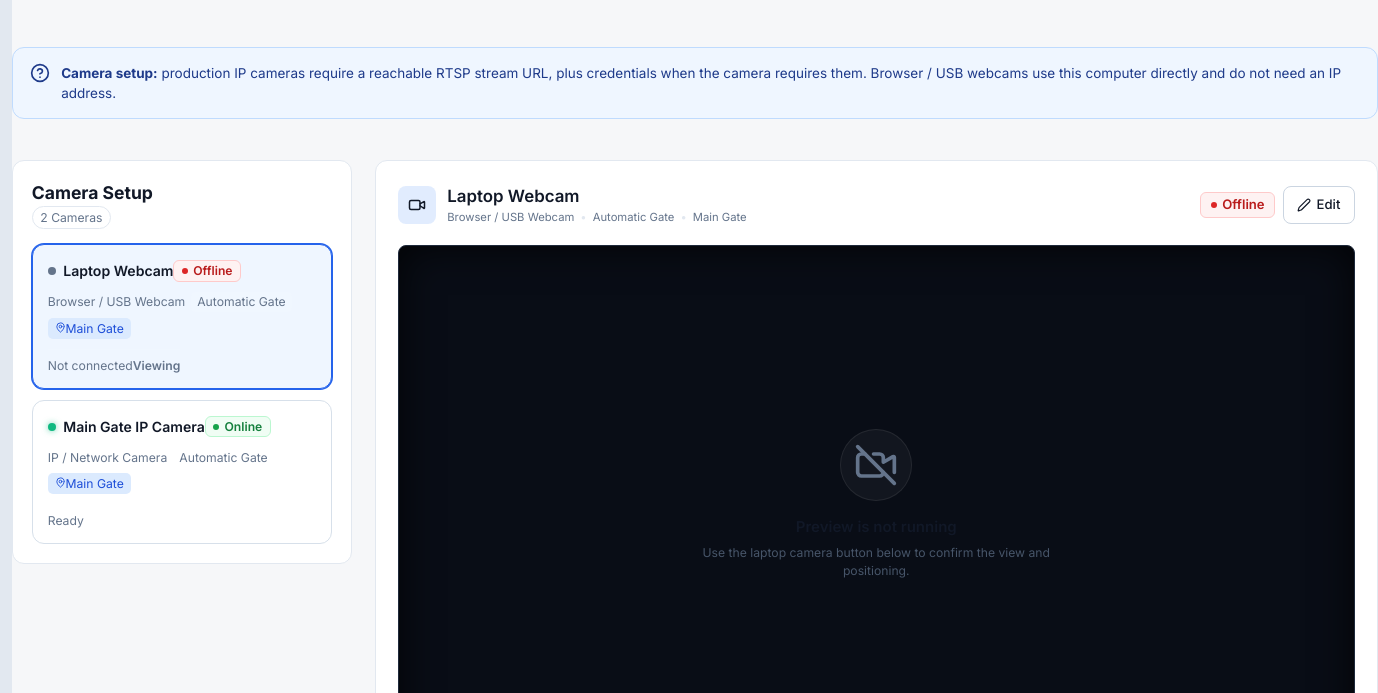
Scenario: Cameras page product workflow › shows network-camera actions when an IP camera is selected
The width and height of the screenshot is (1378, 693).
Click the text "Main Gate IP Camera" at coordinates (134, 427), box [63,418,205,435]
(page scrolled)
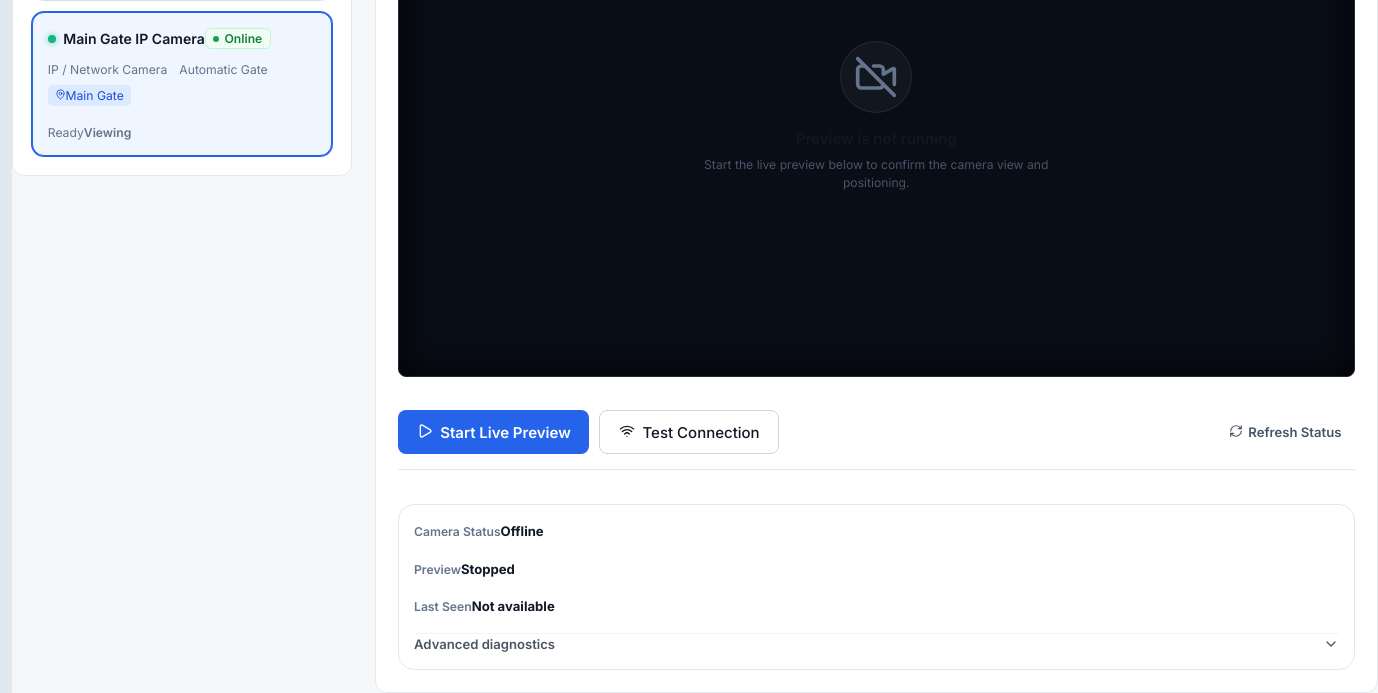
Expected: the button "Start Live Preview" is shown, [398,410,590,454]
Expected: the button "Test Connection" is shown, [599,410,779,454]
